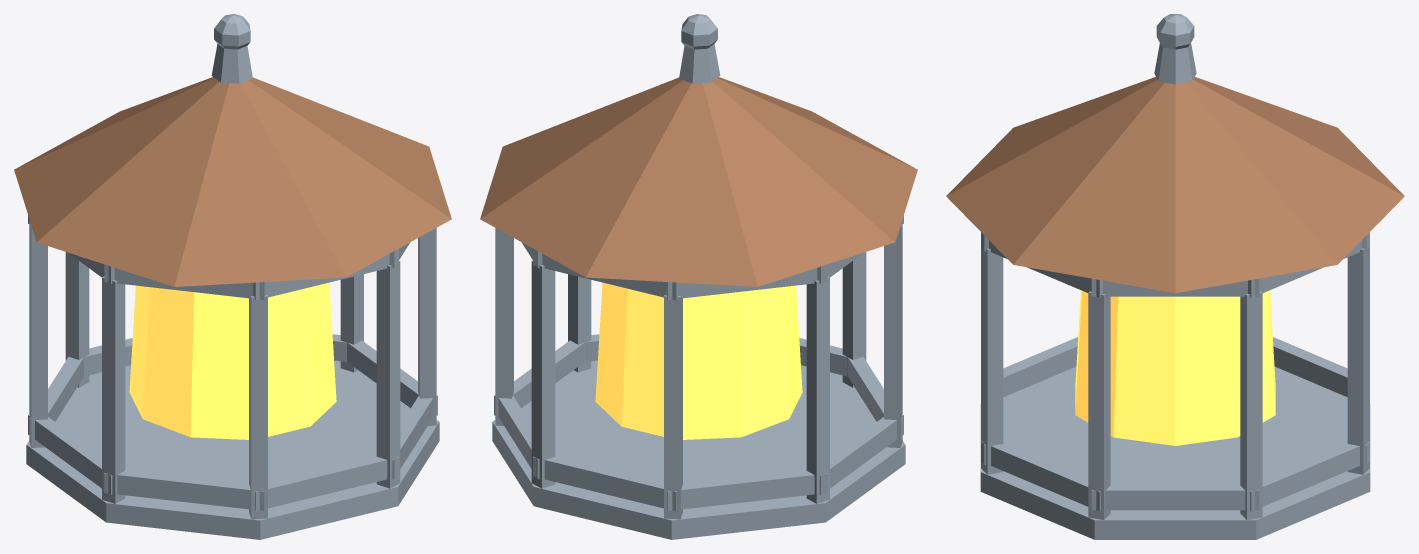
Rendered from wipe-day-survival-island-lighthouse-lantern-room-bc3fcae1__27504.glb.
The picture shows the model from 3 angles, left to right: view 1: azimuth 30°, elevation 25°; view 2: azimuth 150°, elevation 25°; view 3: azimuth 270°, elevation 25°; orthographic projection.
Visible parts, largest first — view 1: lighthouse-lantern-room; view 2: lighthouse-lantern-room; view 3: lighthouse-lantern-room.
Boxes of the visible parts, x1,y1,x2,y2 form: lighthouse-lantern-room: [14, 14, 451, 539]; lighthouse-lantern-room: [480, 14, 917, 539]; lighthouse-lantern-room: [946, 14, 1404, 539].
Bounding box in the file's own units: 2.96 × 3.15 × 2.96.
